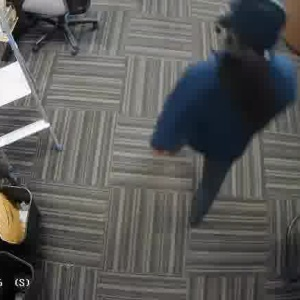person: (154, 0, 294, 203)
